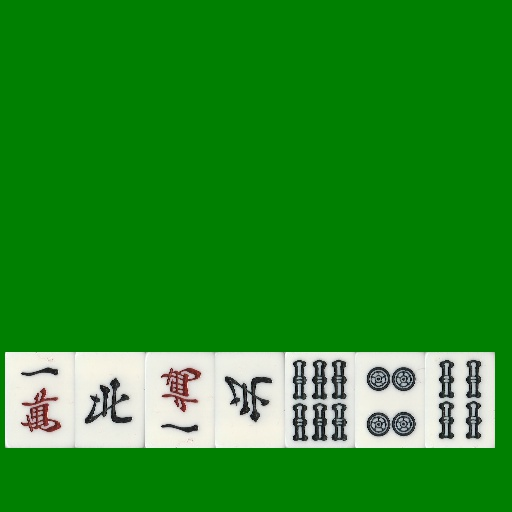1m: (5, 352, 75, 448), (145, 352, 215, 448)
4p: (355, 352, 425, 448)
4s: (425, 352, 495, 448)
6s: (285, 352, 355, 448)
north: (75, 352, 145, 448), (215, 352, 285, 448)
